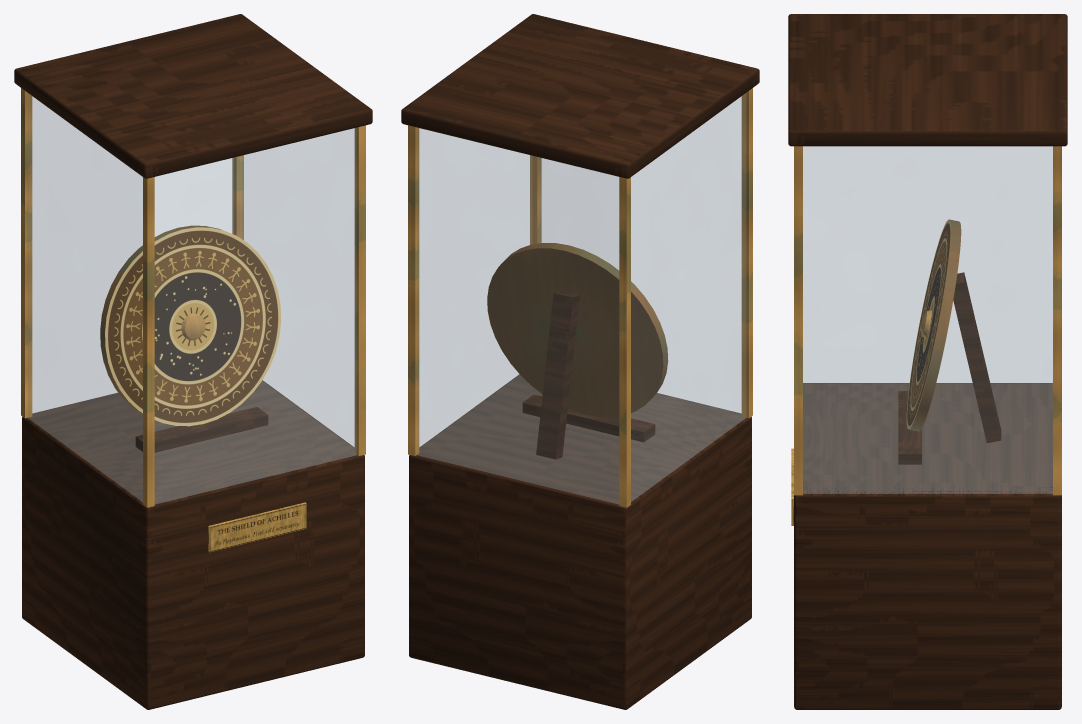
File: shield_case.gltf
3 views of the same model, side by side, from view 1: azimuth 30°, elevation 25°; view 2: azimuth 150°, elevation 25°; view 3: azimuth 270°, elevation 25° (orthographic). The views are drawn at different scales.
Visible parts, largest first — view 1: ShieldCase; view 2: ShieldCase; view 3: ShieldCase.
Boxes of the visible parts, x1,y1,x2,y2 form: ShieldCase: (14,14,372,709); ShieldCase: (401,14,759,709); ShieldCase: (788,14,1067,709).
Bounding box in the file's own units: 0.94 × 2.16 × 0.94.
3 materials, 3 textured.
